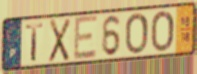6: (101, 13, 122, 58)
E: (73, 14, 99, 63)
O: (125, 11, 150, 56), (151, 9, 176, 53)
T: (24, 22, 45, 63)
X: (47, 17, 72, 65)
